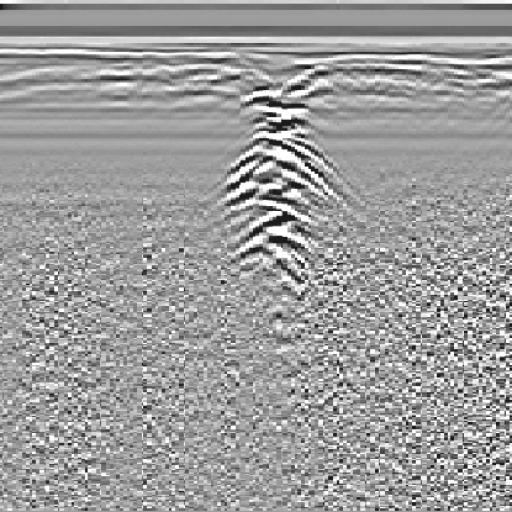metalic: (197, 65, 362, 304)
